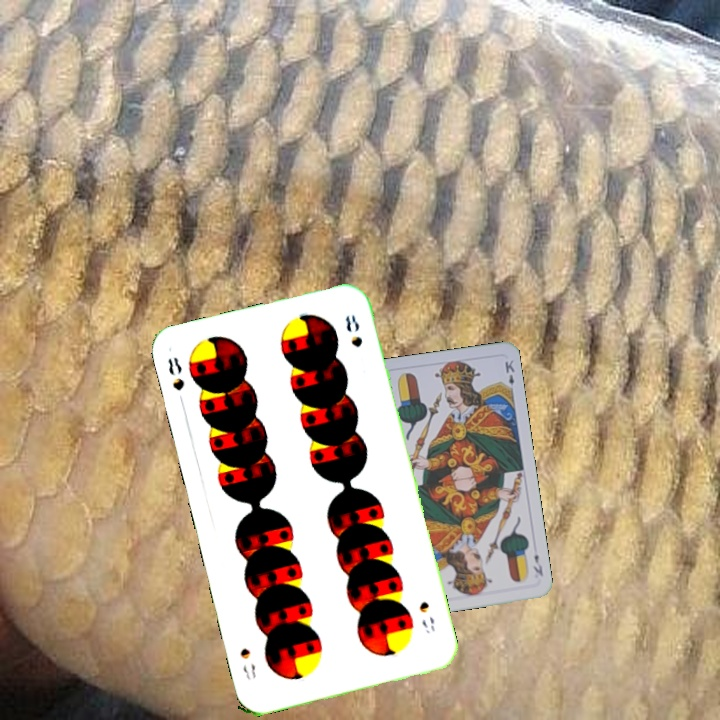EK: (529, 550, 546, 579)
S8: (164, 353, 187, 409), (415, 597, 438, 636)
